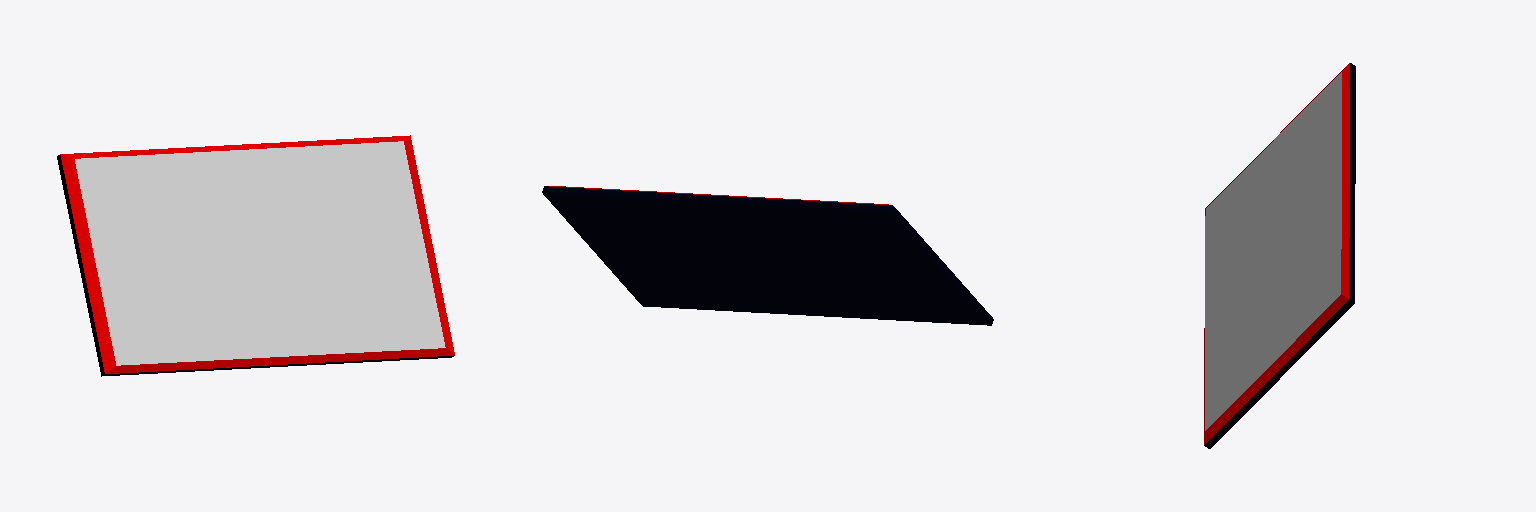
Rendered from b3_body.obj.
3 views of the same model, side by side, from view 1: azimuth 30°, elevation 25°; view 2: azimuth 150°, elevation 25°; view 3: azimuth 270°, elevation 25° (orthographic).
Parts seen in each view (by area): view 1: b3; view 2: b3; view 3: b3.
Part boxes in pixels (x1,y1,x2,y2): b3: (57,135,454,376); b3: (542,186,993,325); b3: (1204,63,1355,448).
Size of the model in its own units: 0.0589 by 0.0343 by 0.0204.